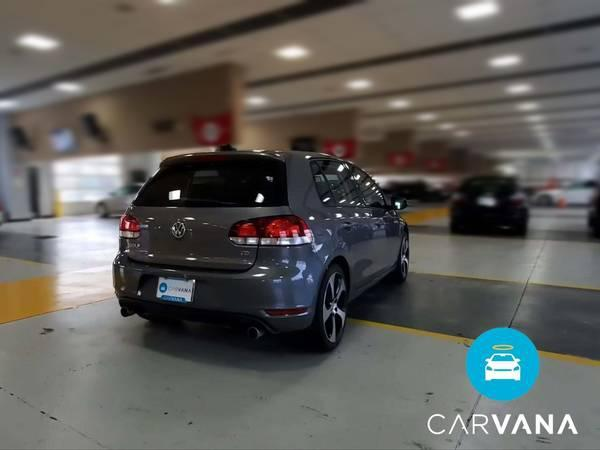Front_Right_Door: (368, 212, 406, 282)
Front_Right_Window: (347, 163, 396, 210)
Left_Taillight: (118, 212, 142, 237)
Rear_Bumper: (109, 243, 322, 333)
Rear_Fender: (294, 209, 334, 263)
Rear_Left_Window: (313, 159, 368, 207)
Rear_Right_Window: (323, 208, 379, 302)
Rear_Windshield: (134, 154, 290, 208)
Right_Taillight: (232, 216, 319, 247)
Roof: (164, 151, 349, 209)
Tailgate: (120, 207, 297, 274)
Wheel: (315, 268, 349, 353)
